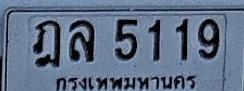1: (175, 18, 188, 60), (148, 18, 160, 61)
5: (115, 18, 138, 60)
9: (198, 18, 219, 59)
A14: (32, 19, 60, 67)
A36: (69, 19, 94, 61)
BKK: (53, 73, 200, 91)
